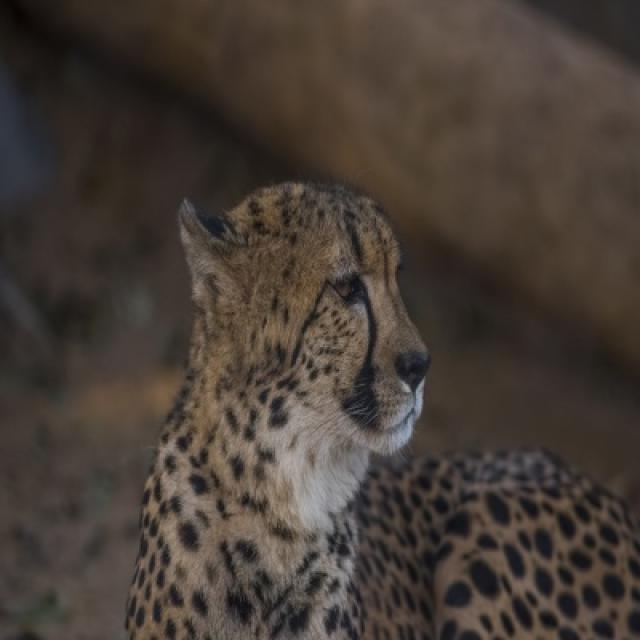Cheetah: (125, 182, 638, 638)
